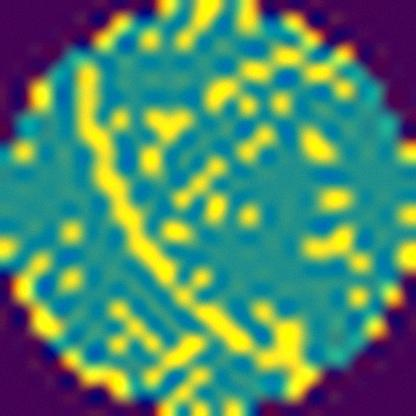Scratch: (65, 55, 317, 395)
